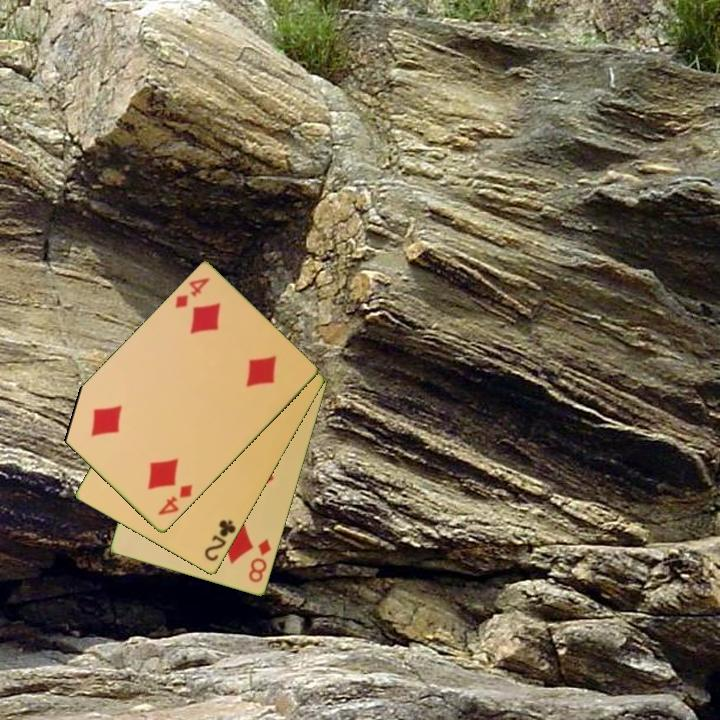2c: (201, 516, 239, 565)
4d: (171, 274, 213, 312), (154, 481, 195, 519)
8d: (245, 535, 275, 586)
